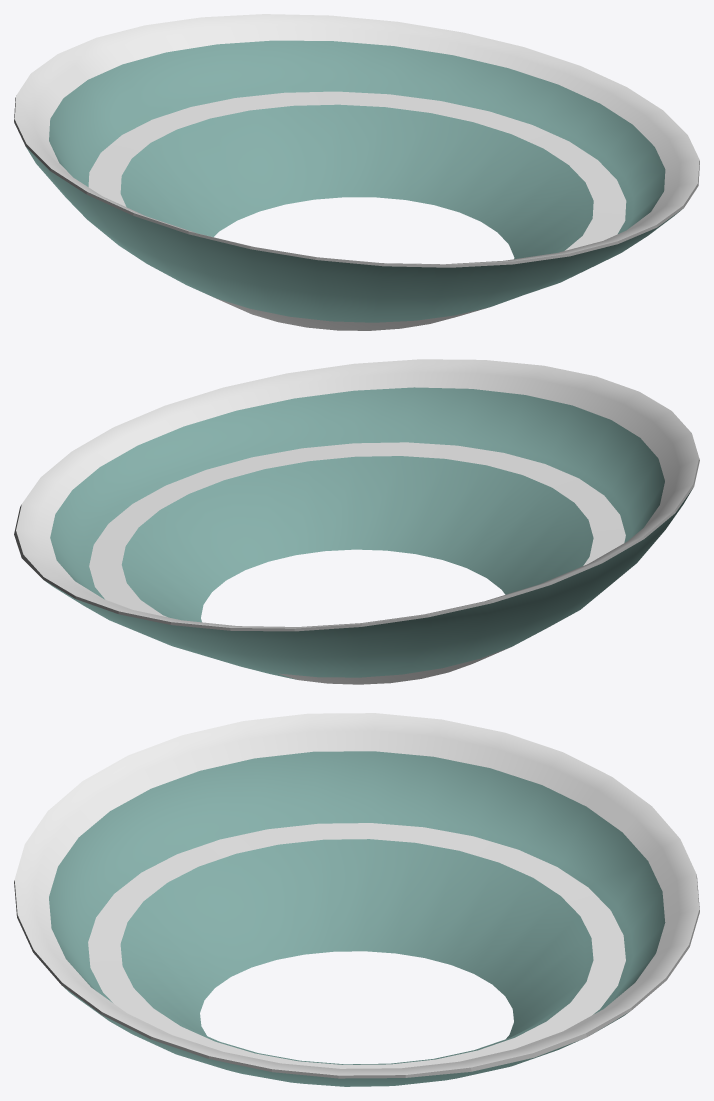
The model's file is Test_sofa.fbx.
3 renders of one model, top to bottom at view 1: azimuth 30°, elevation 25°; view 2: azimuth 150°, elevation 25°; view 3: azimuth 270°, elevation 25°, orthographic.
Parts seen in each view (by area): view 1: SmartSeparate_1; view 2: SmartSeparate_1; view 3: SmartSeparate_1.
Boxes of the visible parts, x1,y1,x2,y2 form: SmartSeparate_1: (14,14,699,330); SmartSeparate_1: (14,359,699,684); SmartSeparate_1: (14,713,699,1086).
Bounding box in the file's own units: 316 × 82.21 × 317.
